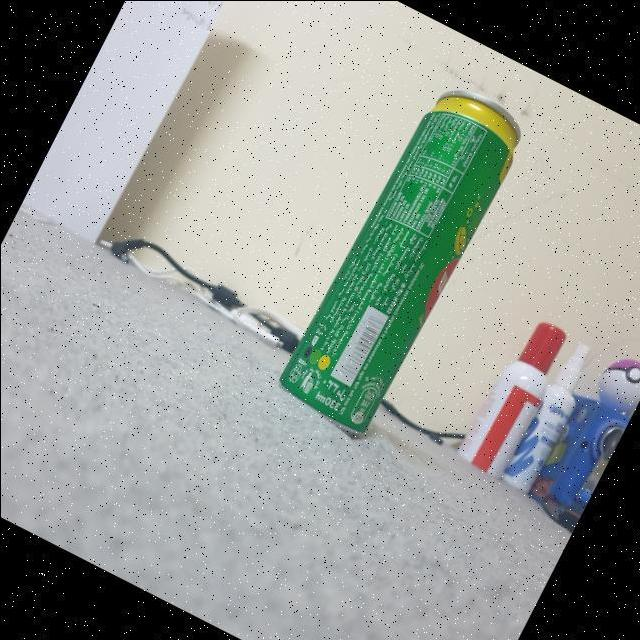can: (248, 50, 550, 463)
